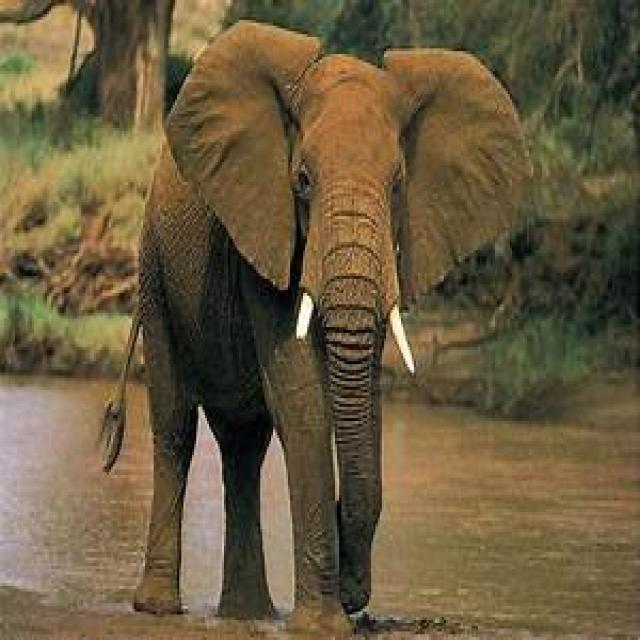elephant: (130, 20, 529, 631)
